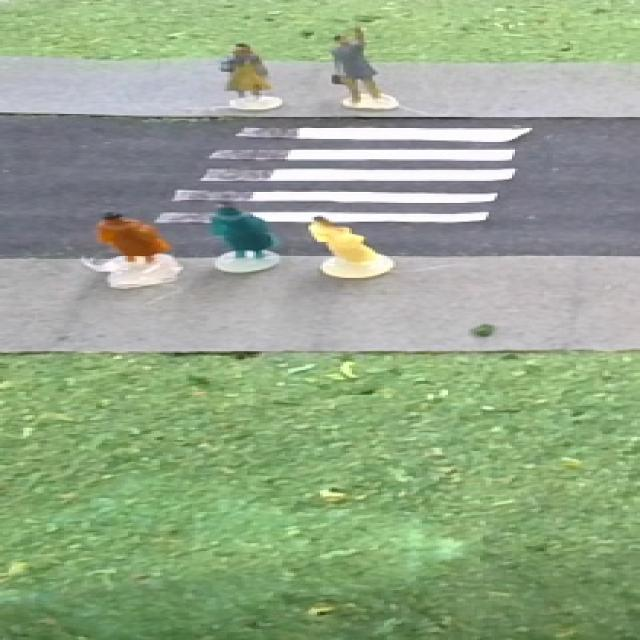person: (332, 27, 381, 104), (210, 203, 276, 257), (99, 213, 171, 262), (309, 217, 378, 265), (222, 44, 270, 99)
